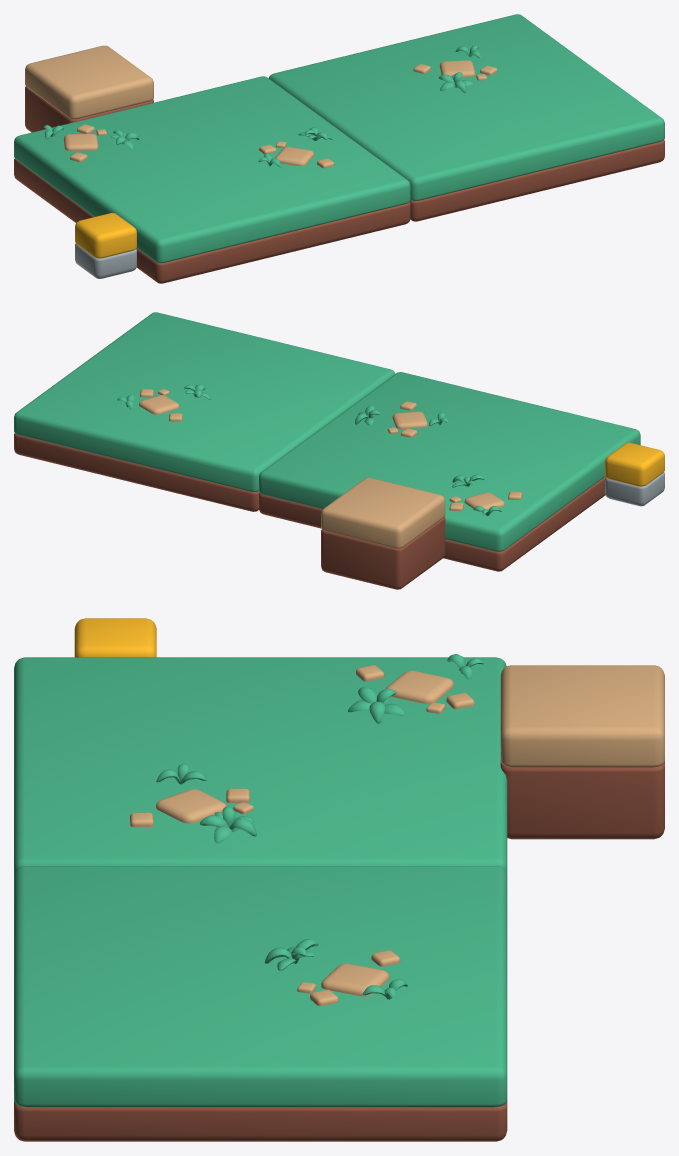
3 views of the same model, one above another, from view 1: azimuth 30°, elevation 25°; view 2: azimuth 150°, elevation 25°; view 3: azimuth 270°, elevation 25° (orthographic). The views are drawn at different scales.
Parts seen in each view (by area): view 1: tileLarge_forest, tileLarge_forest.001, tileMedium_desert, tileSmall_teamYellow, detail_forest.002, detail_forest, detail_forest.001; view 2: tileLarge_forest.001, tileLarge_forest, tileMedium_desert, tileSmall_teamYellow, detail_forest.001, detail_forest.002, detail_forest; view 3: tileLarge_forest.001, tileLarge_forest, tileMedium_desert, detail_forest.001, detail_forest, detail_forest.002, tileSmall_teamYellow.
Boxes of the visible parts, box(x1,y1,x2,y2) form: tileLarge_forest: box(14, 76, 410, 283); tileLarge_forest.001: box(269, 14, 664, 221); tileMedium_desert: box(25, 45, 153, 132); tileSmall_teamYellow: box(75, 213, 136, 278); detail_forest.002: box(413, 45, 497, 92); detail_forest: box(43, 124, 139, 162); detail_forest.001: box(258, 127, 334, 168); tileLarge_forest.001: box(14, 312, 395, 511); tileLarge_forest: box(259, 372, 640, 571); tileMedium_desert: box(321, 477, 445, 589); tileSmall_teamYellow: box(605, 442, 664, 506); detail_forest.001: box(355, 401, 448, 437); detail_forest.002: box(117, 384, 211, 421); detail_forest: box(449, 474, 522, 515); tileLarge_forest.001: box(14, 866, 507, 1141); tileLarge_forest: box(14, 657, 507, 875); tileMedium_desert: box(500, 665, 664, 839); detail_forest.001: box(130, 763, 256, 843); detail_forest: box(348, 654, 484, 723); detail_forest.002: box(265, 939, 407, 1005); tileSmall_teamYellow: box(74, 618, 156, 657).
Bounding box in the file's own units: 13.02 × 1.53 × 7.92.
